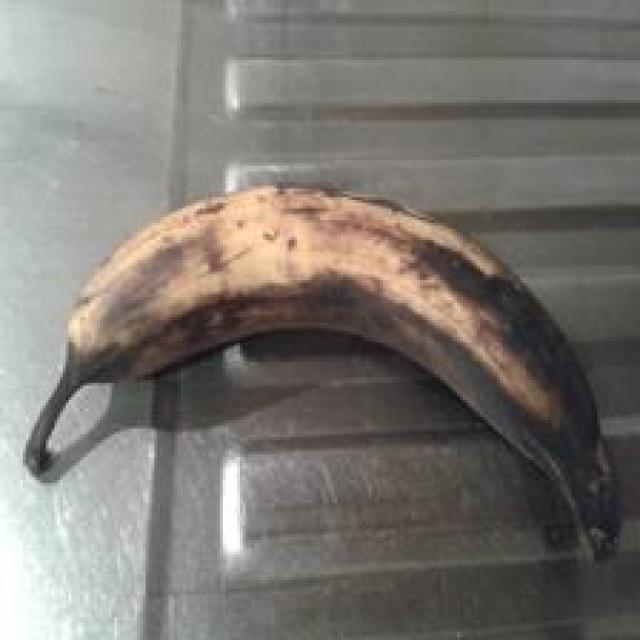Rotten_Banana: (14, 216, 638, 543)
